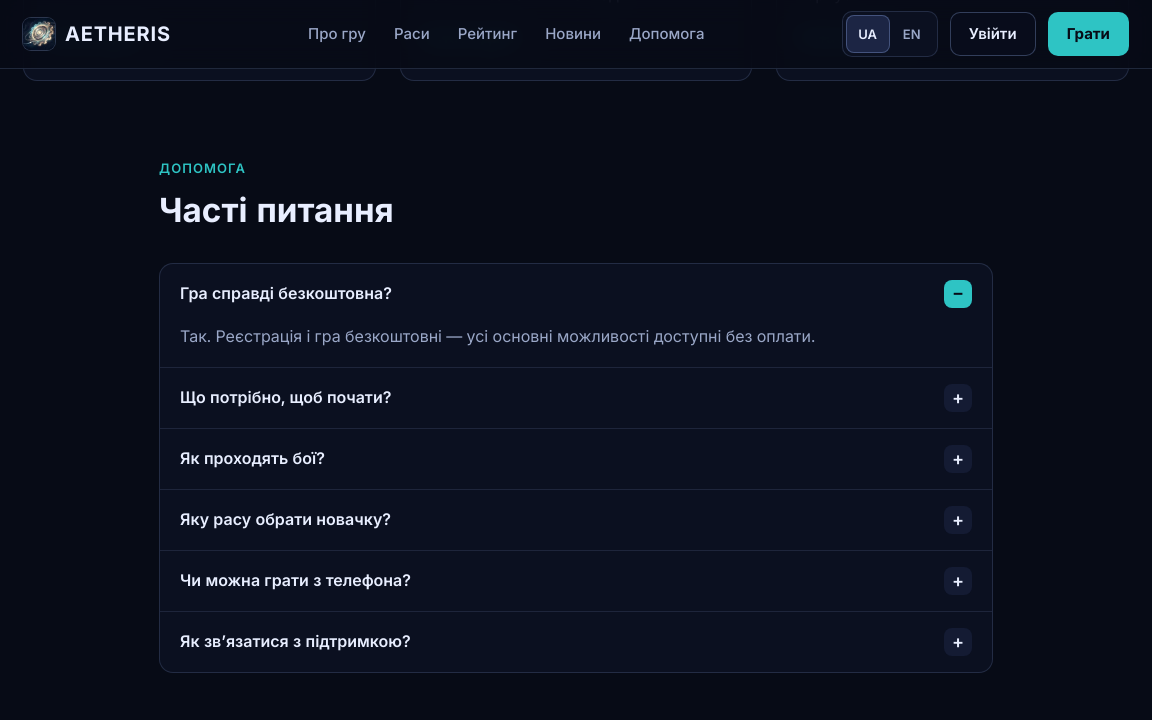
Test case: LandingPage › keeps one FAQ answer open at a time
(page scrolled)
What coordinates should you click on to do the following:
click the button "Що потрібно, щоб почати?"
I would click on:
 (286, 397)
Its box is top-left (160, 368), bottom-right (992, 428).
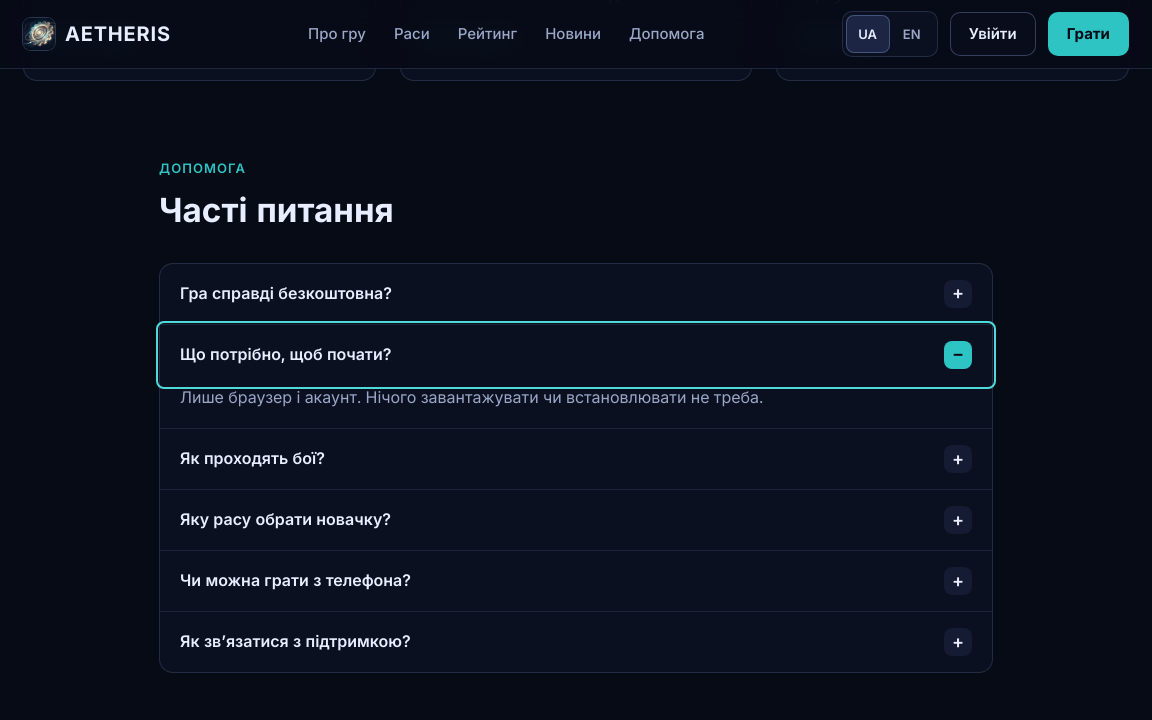
Expected: the button "Гра справді безкоштовна?" is collapsed, top-left (160, 264), bottom-right (992, 324)
Expected: the button "Що потрібно, щоб почати?" is expanded, top-left (160, 325), bottom-right (992, 385)
Expected: the text "Лише браузер і акаунт. Нічого завантажувати чи встановлювати не треба." is shown, top-left (180, 387), bottom-right (763, 407)
